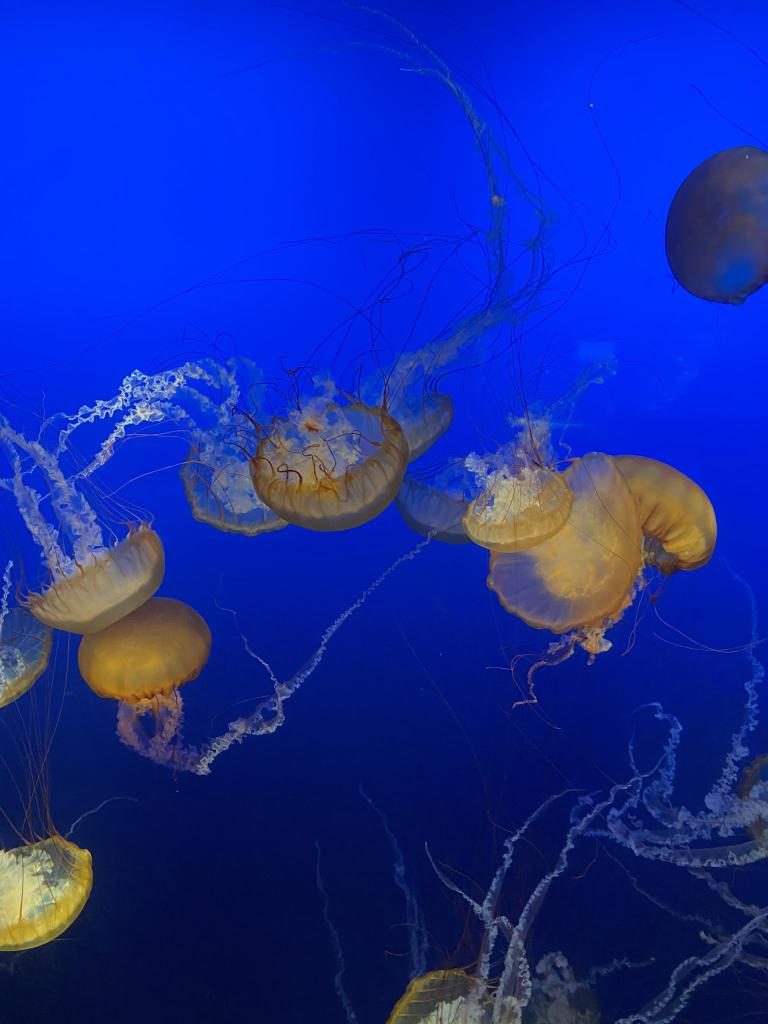jellyfish: (478, 446, 642, 632), (255, 393, 410, 531), (664, 142, 768, 306), (23, 521, 165, 635), (182, 418, 306, 538), (604, 450, 716, 576), (72, 601, 212, 701), (0, 809, 93, 952), (462, 466, 572, 550), (384, 967, 526, 1023), (388, 474, 485, 548), (377, 380, 459, 462), (0, 610, 54, 720)
